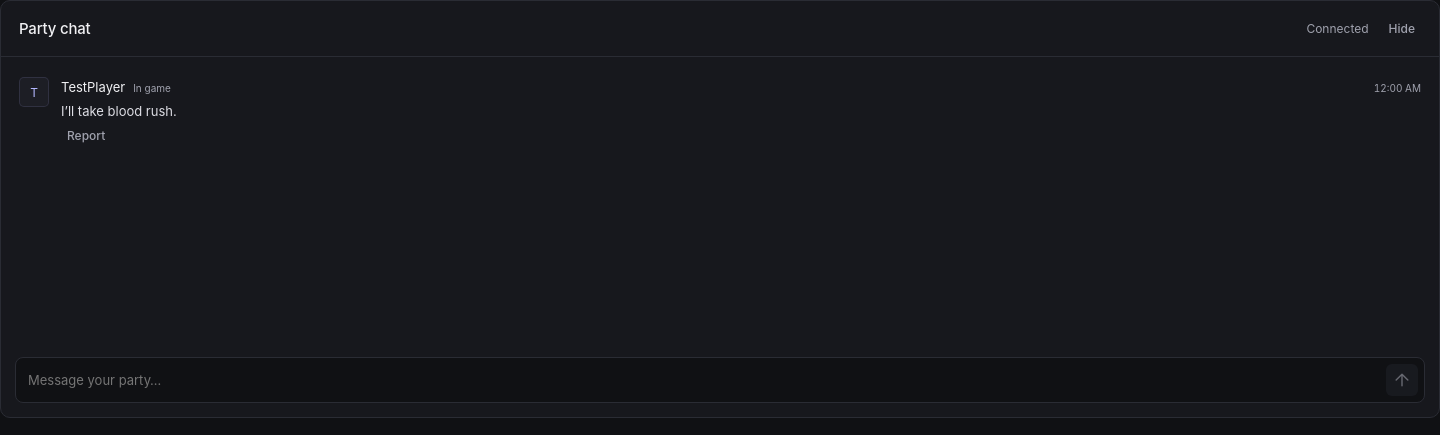
Test: reports the selected message with a required reason
This screenshot has width=1440, height=435.
Click the button "Report": click(86, 135) x1=61 y1=122 x2=111 y2=149
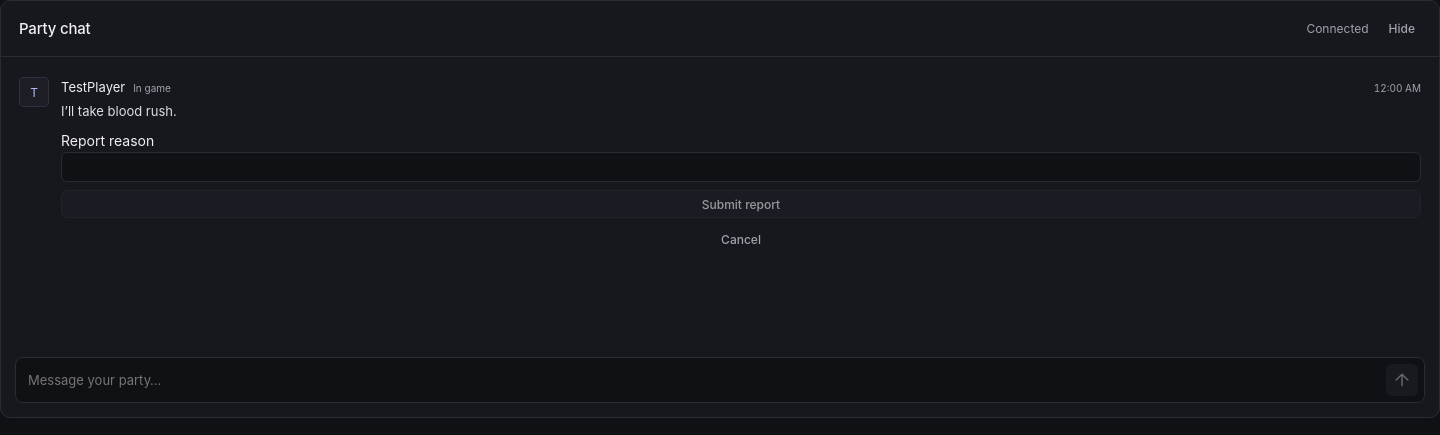
Check: the button "Submit report" is disabled, box x1=61 y1=190 x2=1421 y2=218
In the field labelled "Report reason": (741, 167) x1=61 y1=152 x2=1421 y2=182, type "Harassment"
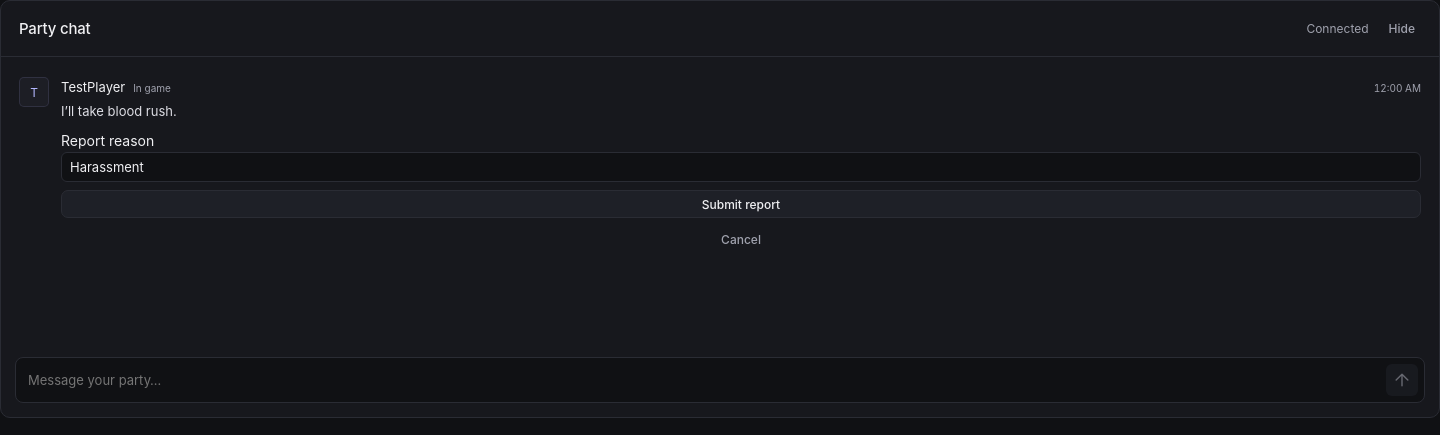
Click the button "Submit report": click(741, 204) x1=61 y1=190 x2=1421 y2=218
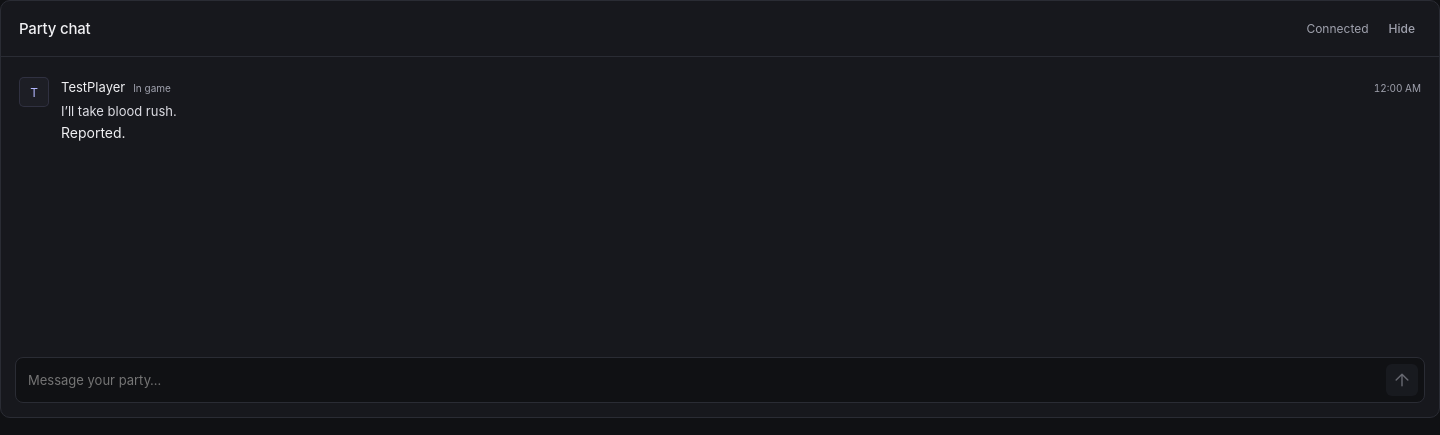
Check: the text "Reported." is shown, box x1=61 y1=124 x2=126 y2=141
